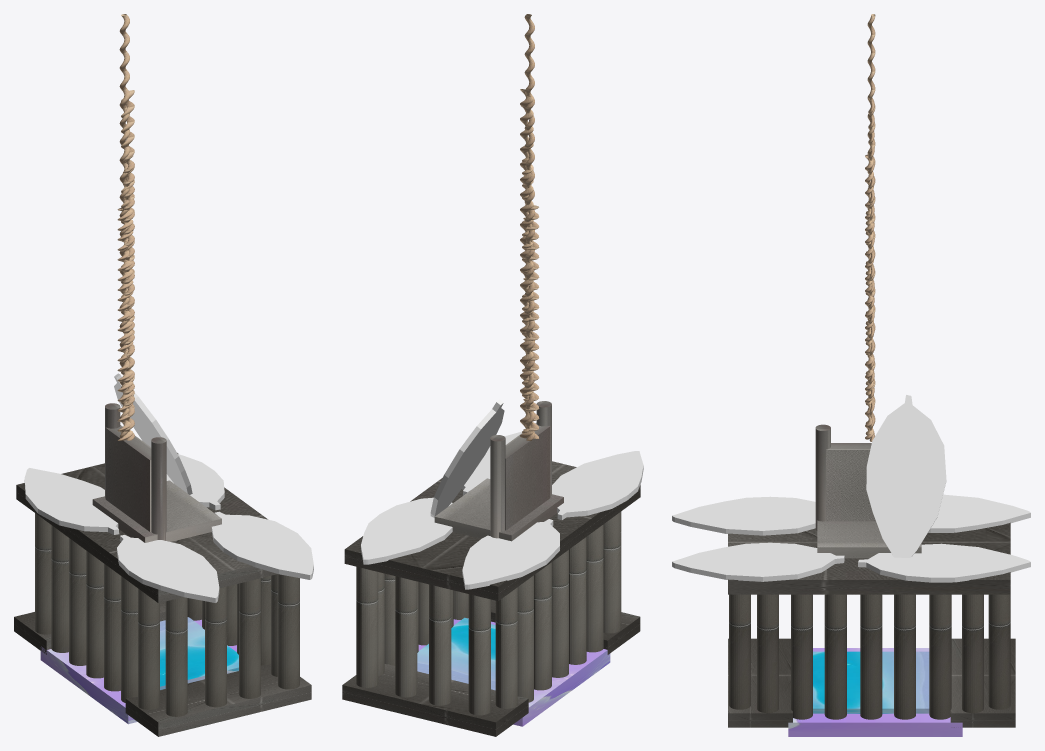
The model's file is cage3.fbx.
3 renders of one model, left to right at view 1: azimuth 30°, elevation 25°; view 2: azimuth 150°, elevation 25°; view 3: azimuth 270°, elevation 25°, orthographic.
Parts seen in each view (by area): view 1: Cube, Circle, Cube.004, Cube.008, Cube.009, Cube.007, Cube.002, Cube.001, Cylinder.021, Cylinder.019, Cylinder.010, Cylinder.018 (+16 smaller); view 2: Cube, Circle, Cube.005, Cube.008, Cube.007, Cube.003, Cube.002, Cube.001, Cylinder.025, Cylinder.024, Cylinder.023, Cylinder.022 (+17 smaller); view 3: Cube.010, Cube, Cube.009, Cube.003, Cube.008, Cube.006, Cube.002, Cube.011, Circle, Cylinder.003, Cylinder.004, Cylinder.006 (+11 smaller).
Part boxes in pixels (x1,y1,x2,y2): Cube: (16,453,277,602); Circle: (117,14,134,440); Cube.004: (125,664,311,736); Cube.008: (117,535,219,602); Cube.009: (211,511,313,579); Cube.007: (24,468,119,534); Cube.002: (105,425,151,531); Cube.001: (92,480,221,542); Cylinder.021: (165,597,187,716); Cylinder.019: (239,578,260,698); Cylinder.010: (138,588,159,709); Cylinder.018: (278,574,299,689); Cube: (344,461,640,601); Circle: (520,14,539,440); Cube.005: (342,664,528,736); Cube.008: (552,451,643,520); Cube.007: (462,519,559,589); Cube.003: (361,497,452,564); Cube.002: (505,422,550,530); Cube.001: (434,478,563,541); Cylinder.025: (468,594,490,715); Cylinder.024: (429,584,451,705); Cylinder.023: (395,576,417,697); Cylinder.022: (356,566,378,687); Cube.010: (866,395,946,557); Cube: (728,522,1010,594); Cube.009: (672,542,844,581); Cube.003: (858,543,1030,582); Cube.008: (672,496,815,535); Cube.006: (788,648,962,736); Cube.002: (826,443,875,521); Cube.011: (813,651,929,713); Circle: (865,14,875,441); Cylinder.003: (824,594,846,719); Cylinder.004: (860,594,882,719); Cylinder.006: (929,594,951,719).
Size of the model in its own units: 4.46 by 16.62 by 8.12.
Materials: 7 (7 with a texture image).
